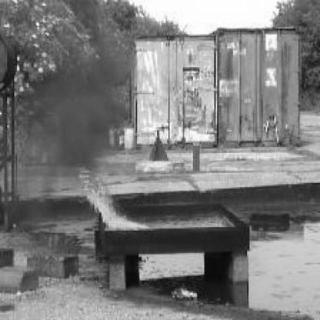Smoke: (33, 38, 131, 158)
